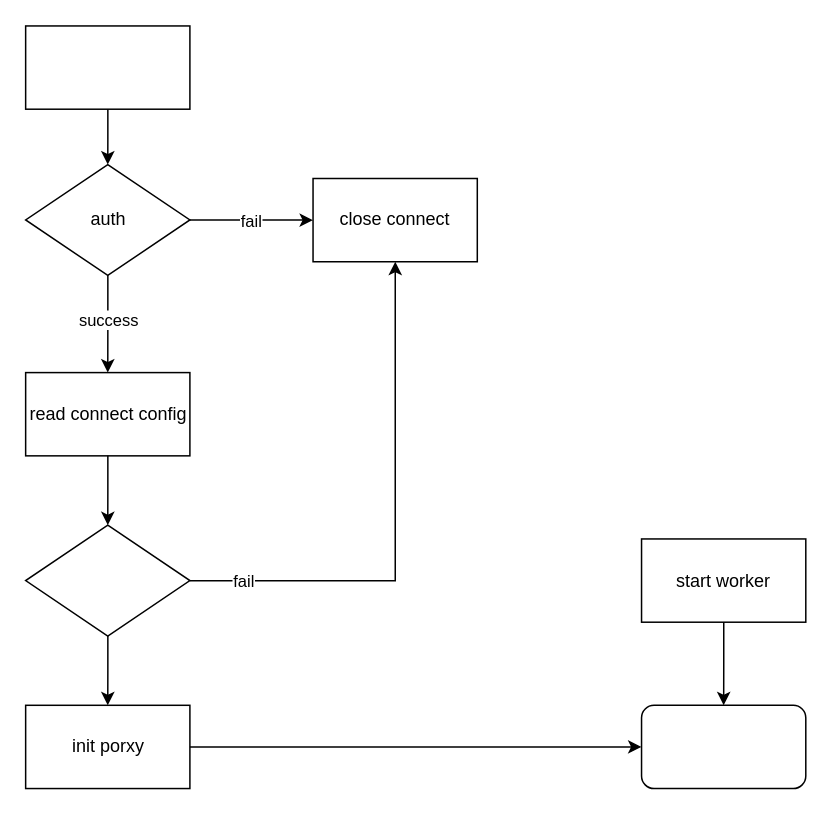
Some shapes in this 834 by 816 pixel diagram are drawn without their labels. Here are the shapes that lost their labels. From the top down, the centre of each, then its label:
point (107, 66): accept connect
point (107, 580): verify config
point (723, 746): accept worker
